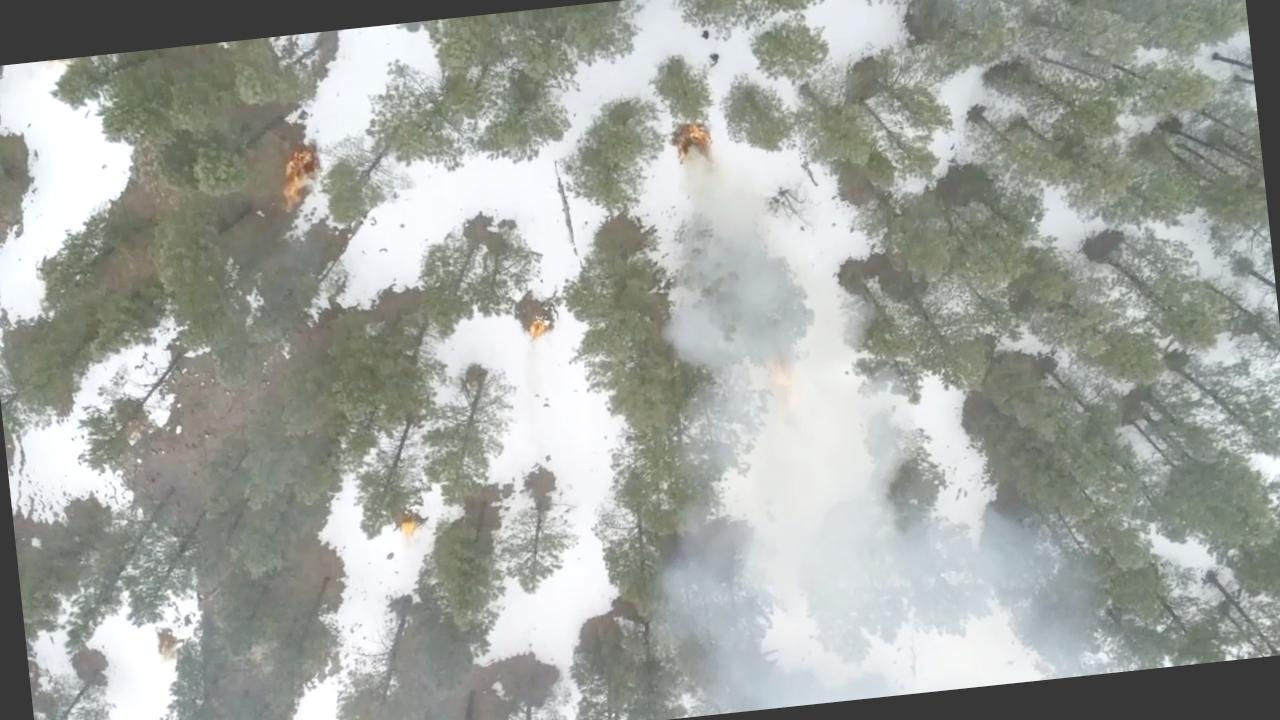fire: (275, 148, 320, 206), (670, 115, 718, 167), (522, 308, 556, 345), (392, 512, 423, 540)
smoke: (646, 428, 1124, 718), (660, 222, 919, 468)
